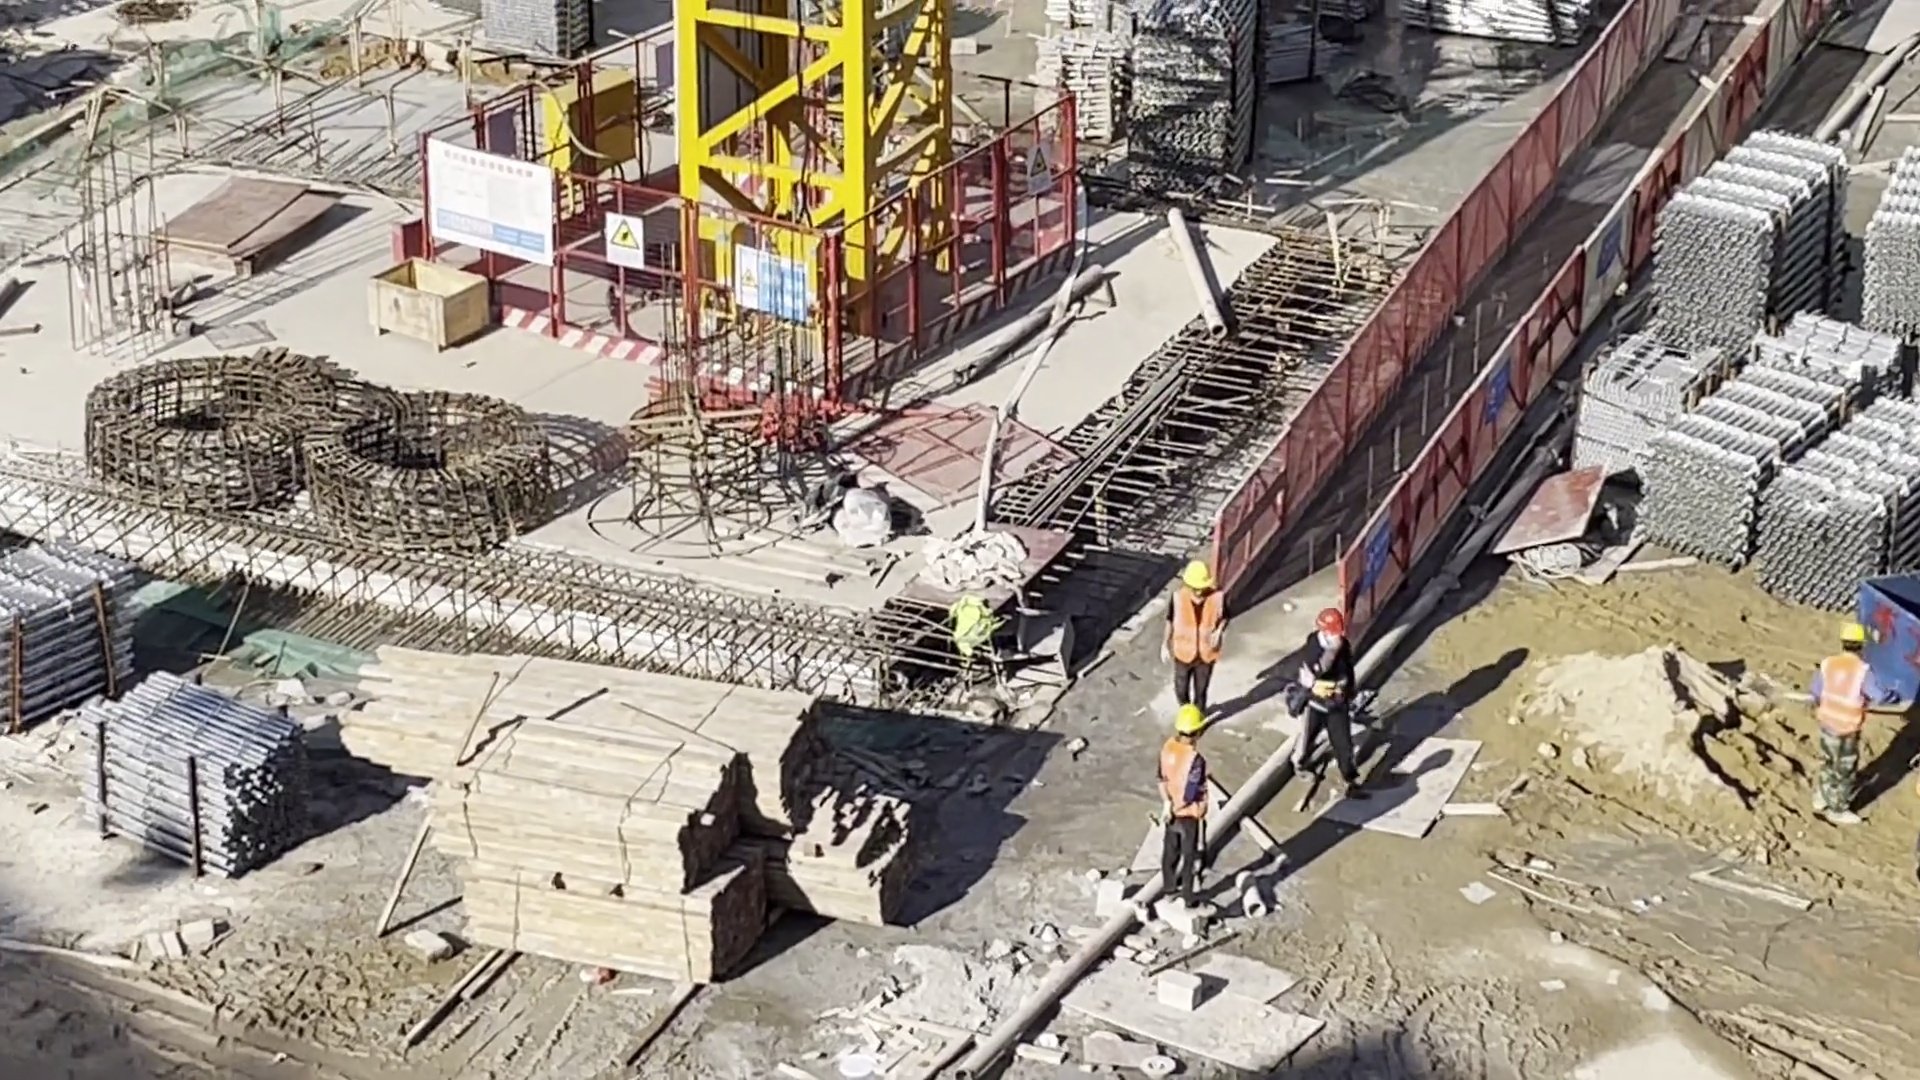board: (166, 169, 319, 281)
ebox: (546, 69, 632, 180)
fence: (1215, 1, 1805, 607)
helmet: (1182, 561, 1213, 589), (1316, 610, 1346, 635), (1176, 705, 1203, 733), (1841, 623, 1866, 643)
hopper: (1862, 568, 1920, 703)
person: (1292, 610, 1359, 786), (1817, 623, 1875, 824), (1158, 707, 1212, 908), (1167, 562, 1225, 714)
scaffold: (1650, 342, 1851, 562), (90, 673, 305, 876), (1650, 130, 1844, 353), (1040, 1, 1254, 184), (1759, 399, 1920, 608), (1, 550, 128, 731), (1859, 146, 1920, 329), (1391, 1, 1582, 45), (483, 1, 589, 60)
slogan: (731, 247, 806, 333), (1361, 515, 1392, 588), (1485, 347, 1511, 423), (606, 214, 642, 264), (1027, 142, 1052, 193)
vest: (1151, 746, 1205, 816), (1175, 593, 1217, 668), (1821, 658, 1862, 733)
wood: (444, 724, 767, 972), (385, 654, 812, 835)
